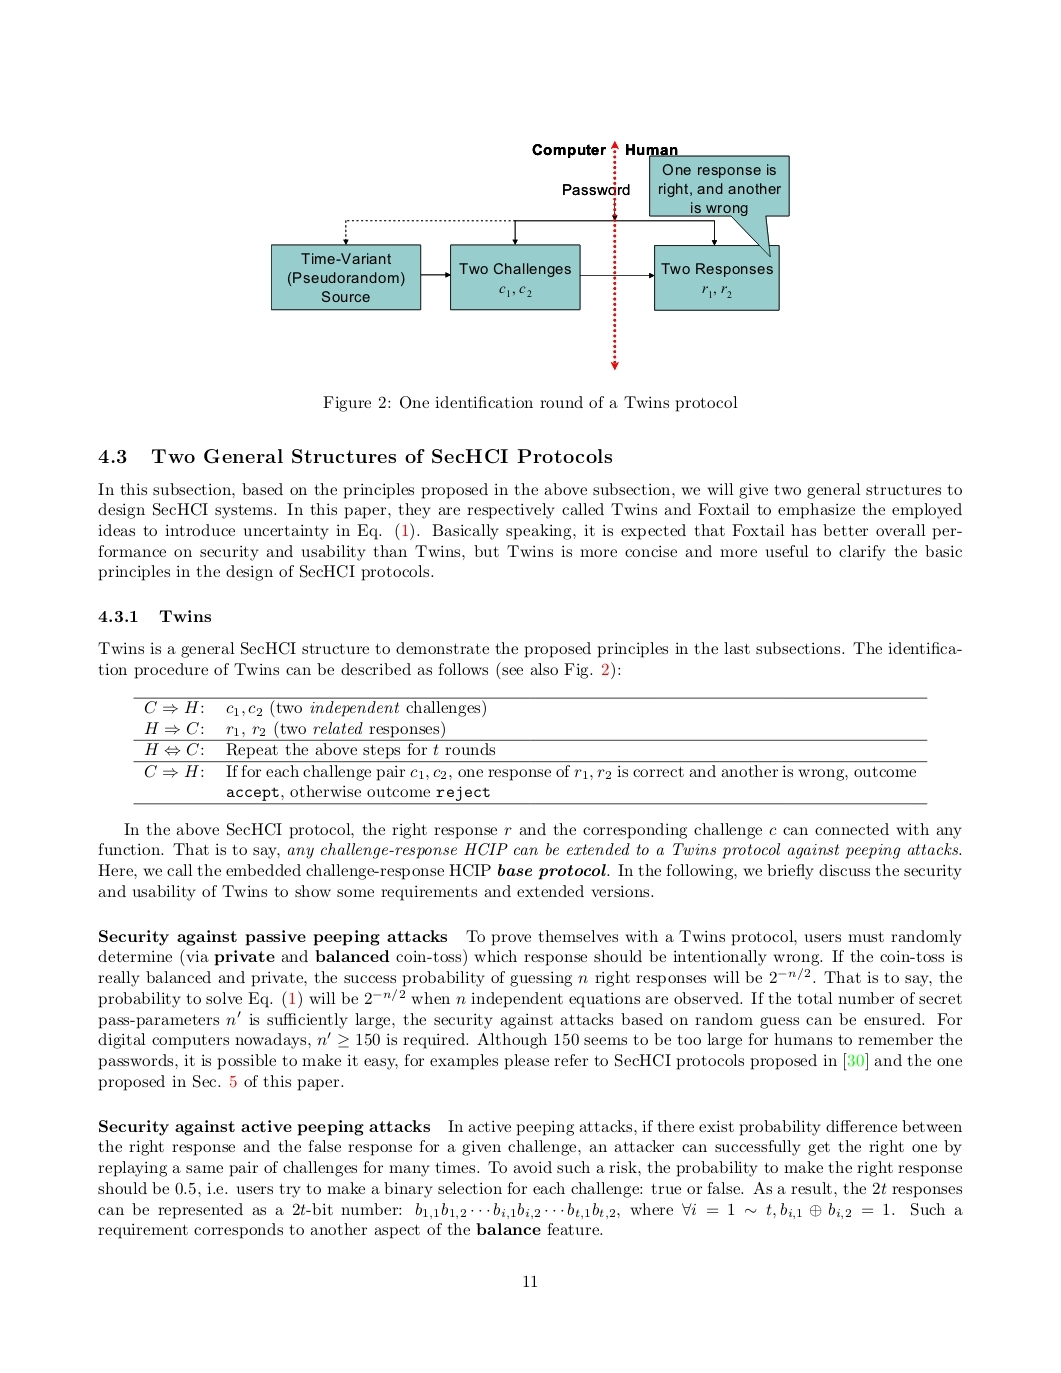Table: (133, 697, 927, 804)
figure: (271, 142, 789, 369)
